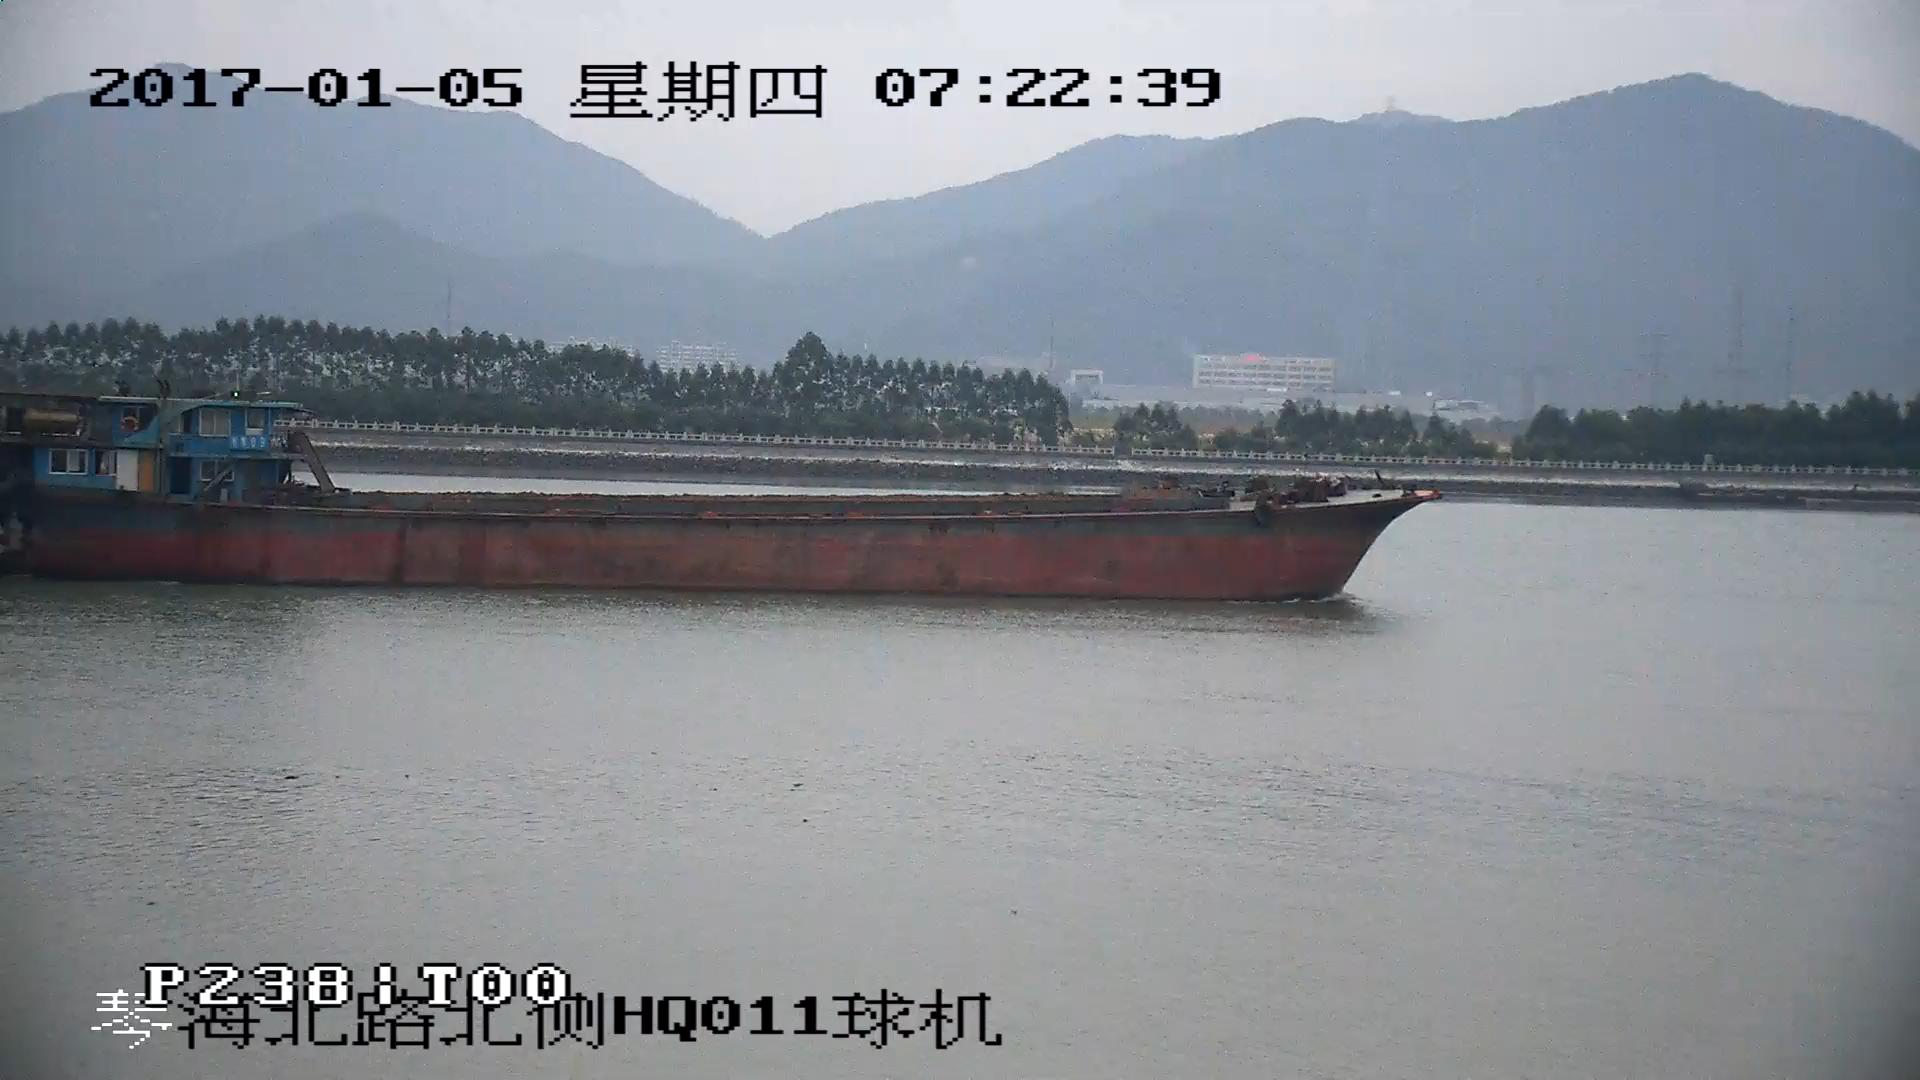bulk cargo carrier: (1, 396, 1434, 599)
